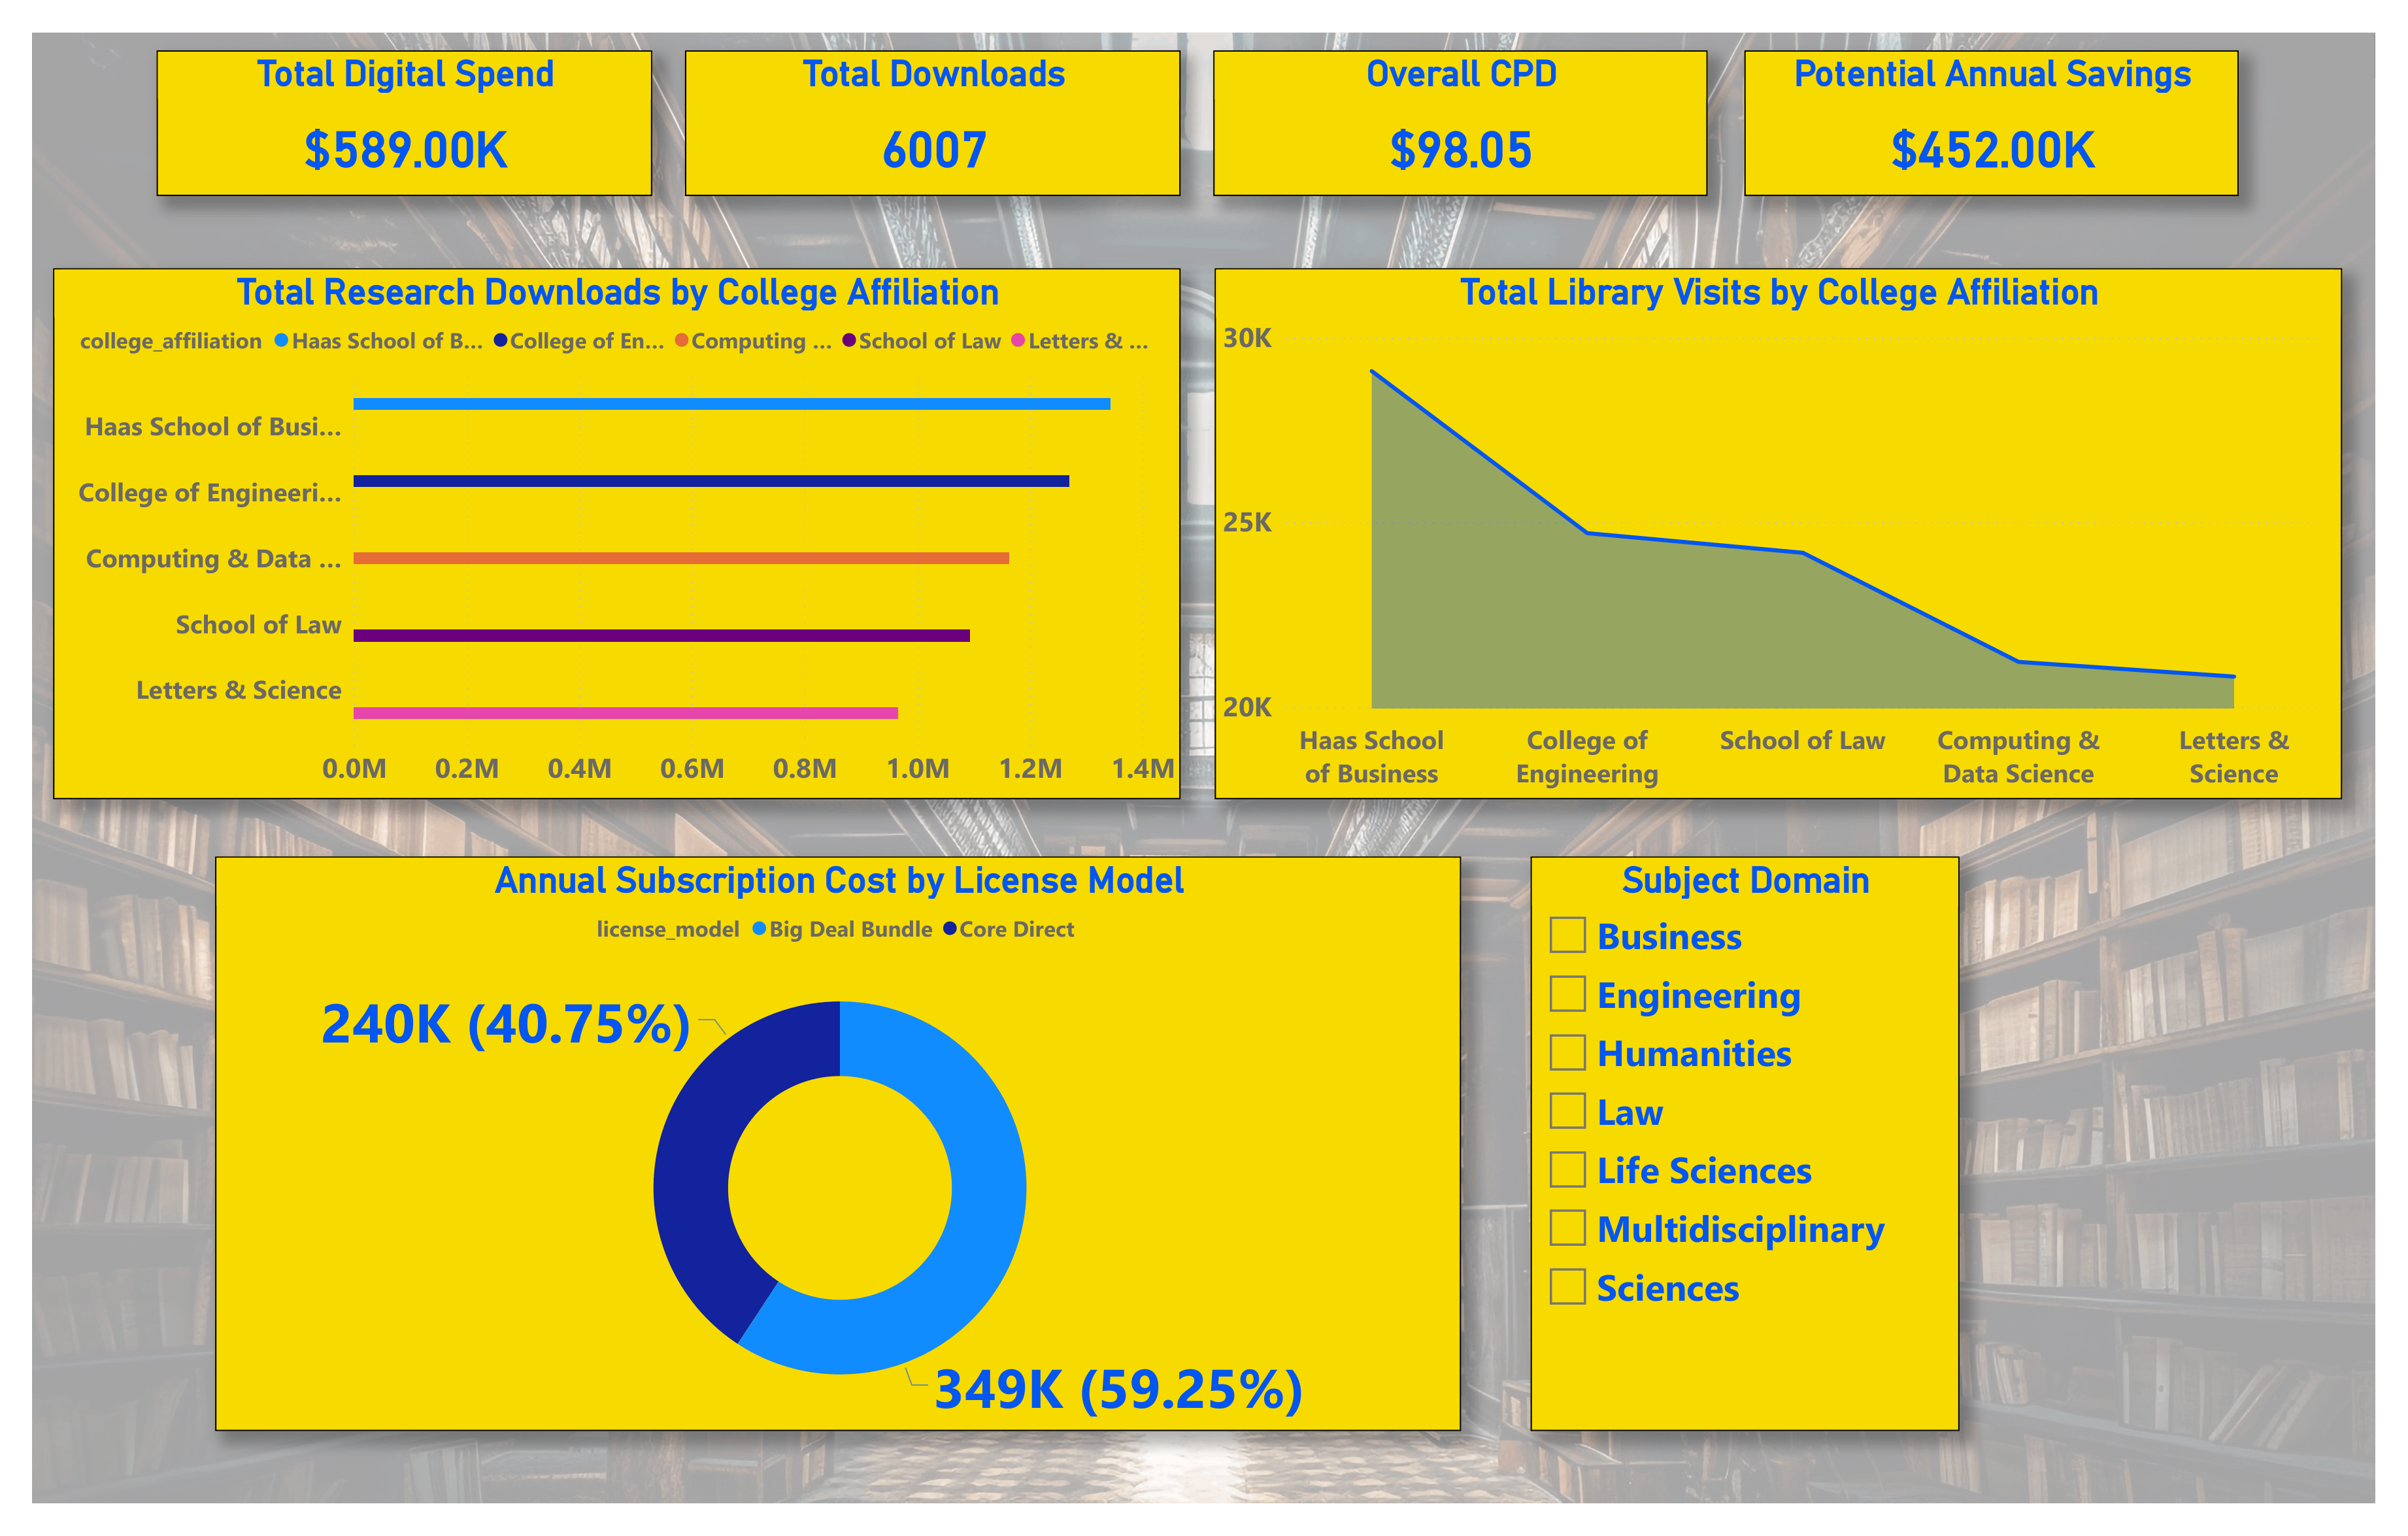

This screenshot's page, from the dashboard's own definition file:
{"tool":"powerbi","page":{"name":"Page 1: Executive Suite","canvas":[1720,1080],"ordinal":0},"visuals":[{"type":"card","title":"Total Digital Spend","fields":{"Values":["public view_kpi_publisher_roi.Total Digital Spend"]},"box":[91.1,13.1,363.7,107.3],"z":0},{"type":"card","title":"Total Downloads","fields":{"Values":["public view_kpi_publisher_roi.Total Downloads"]},"box":[478.9,13.1,363.7,107.3],"z":1000},{"type":"card","title":"Overall CPD","fields":{"Values":["public view_kpi_publisher_roi.Overall CPD"]},"box":[866.6,13.1,363.7,107.3],"z":2000},{"type":"card","title":"Potential Annual Savings","fields":{"Values":["public view_kpi_publisher_roi.Potential Annual Savings"]},"box":[1256.6,13.1,363.7,107.3],"z":3000},{"type":"clusteredBarChart","title":"Total Research Downloads by College Affiliation","fields":{"Category":["public view_kpi_college_usage_share.college_affiliation"],"Y":["Sum(public view_kpi_college_usage_share.total_research_downloads)"],"Series":["public view_kpi_college_usage_share.college_affiliation"]},"box":[15.3,173.1,828.1,389.9],"z":4000},{"type":"donutChart","title":"Annual Subscription Cost by License Model","fields":{"Category":["public dim_digital_resource.license_model"],"Y":["Sum(public dim_digital_resource.annual_subscription_cost)"]},"box":[133.6,604.6,915.7,422.8],"z":5000},{"type":"stackedAreaChart","title":"Total Library Visits by College Affiliation","fields":{"Category":["public view_kpi_college_usage_share.college_affiliation"],"Y":["Sum(public view_kpi_college_usage_share.total_library_visits)"]},"box":[867.5,173.1,828.1,389.9],"z":6000},{"type":"slicer","title":"Subject Domain","fields":{"Values":["public view_kpi_publisher_roi.subject_domain"]},"box":[1099.7,604.6,315.5,422.8],"z":7000}]}

Visuals, with their boxes in screenshot pixels (x1, y1, x2, y2):
"Total Digital Spend" card: x1=132, y1=37, x2=634, y2=185
"Total Downloads" card: x1=667, y1=37, x2=1169, y2=185
"Overall CPD" card: x1=1203, y1=37, x2=1705, y2=185
"Potential Annual Savings" card: x1=1741, y1=37, x2=2243, y2=185
"Total Research Downloads by College Affiliation" clusteredBarChart: x1=27, y1=258, x2=1171, y2=796
"Annual Subscription Cost by License Model" donutChart: x1=191, y1=854, x2=1455, y2=1437
"Total Library Visits by College Affiliation" stackedAreaChart: x1=1204, y1=258, x2=2347, y2=796
"Subject Domain" slicer: x1=1524, y1=854, x2=1960, y2=1437
